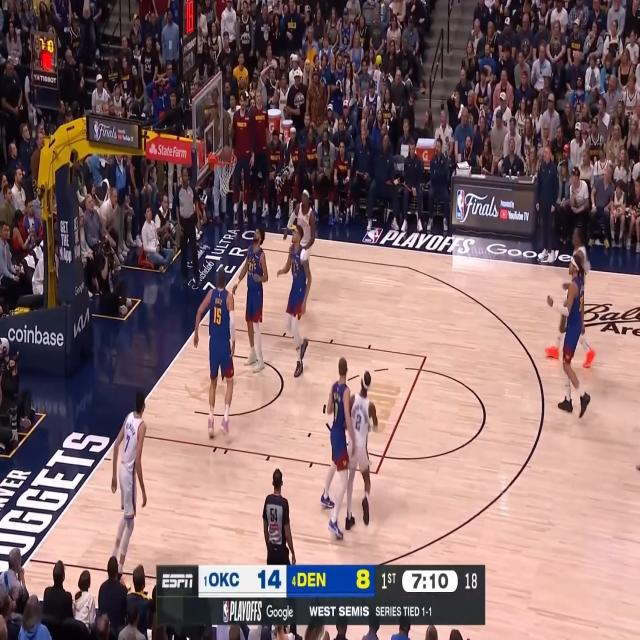ball: (220, 143, 232, 165)
number: (213, 306, 222, 326), (124, 434, 131, 454), (355, 414, 362, 432), (248, 262, 254, 272)
player: (542, 222, 598, 370), (544, 251, 592, 422), (110, 391, 150, 592), (192, 268, 236, 441), (322, 354, 356, 544), (343, 368, 380, 532), (232, 221, 268, 376), (278, 222, 313, 378), (280, 186, 317, 322)
referee: (172, 165, 202, 290), (263, 467, 297, 565)
rim: (217, 149, 237, 168)
